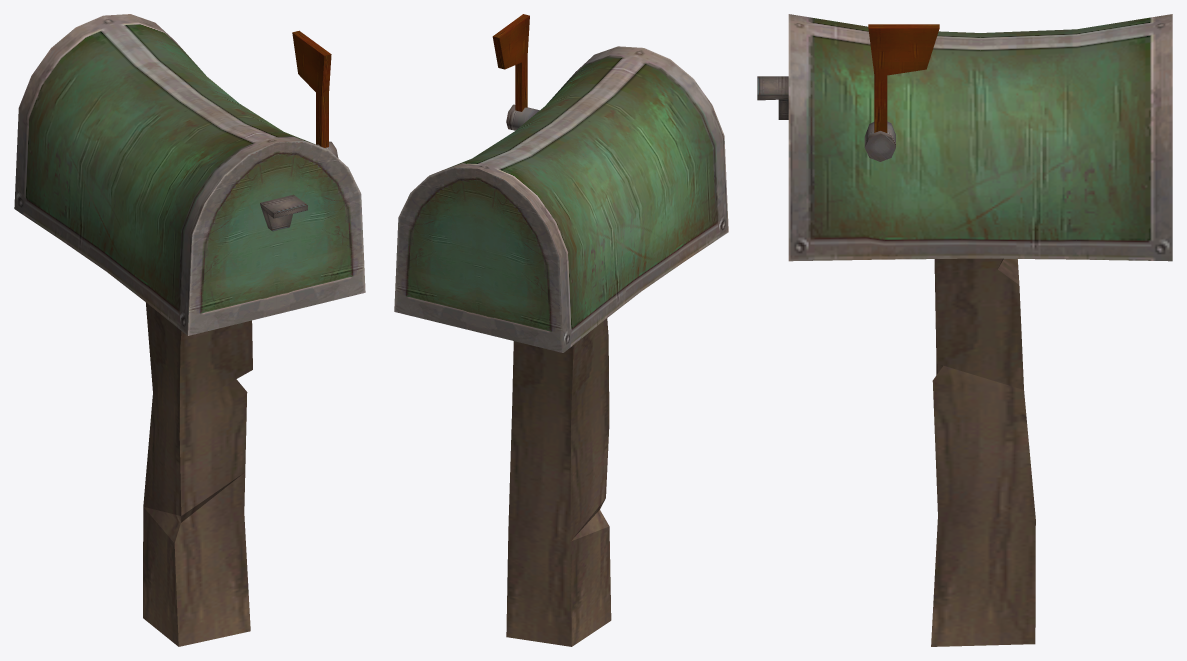
Rendered from Mailbox.fbx.
3 views of the same model, side by side, from view 1: azimuth 30°, elevation 25°; view 2: azimuth 150°, elevation 25°; view 3: azimuth 270°, elevation 25° (orthographic). The views are drawn at different scales.
Parts seen in each view (by area): view 1: node_id32; view 2: node_id32; view 3: node_id32.
Boxes of the visible parts, <box> form: node_id32: <box>14,14,365,646</box>; node_id32: <box>394,14,728,646</box>; node_id32: <box>757,14,1172,646</box>.
Size of the model in its own units: 0.1696 by 0.512 by 0.2978.
1 material, 1 textured.
